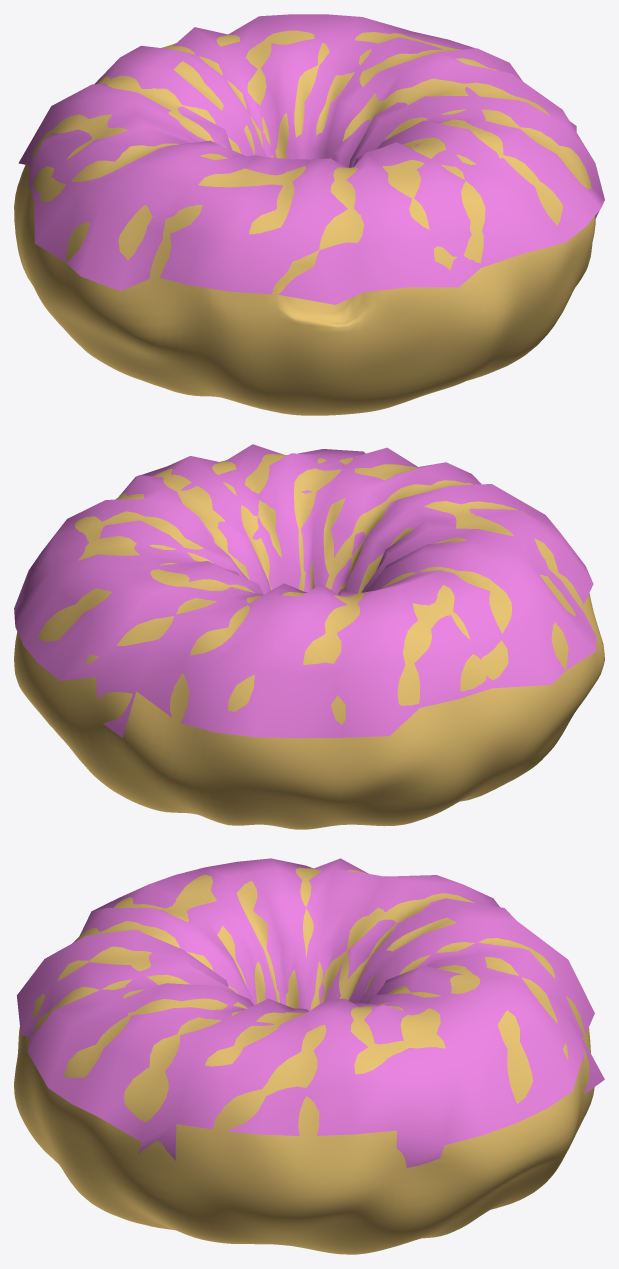
File: donut.glb
The picture shows the model from 3 angles, top to bottom: view 1: azimuth 30°, elevation 25°; view 2: azimuth 150°, elevation 25°; view 3: azimuth 270°, elevation 25°; orthographic projection. The views are drawn at different scales.
Visible parts, largest first — view 1: Icing, Donut; view 2: Icing, Donut; view 3: Icing, Donut.
Part boxes in pixels (x1,y1,x2,y2): Icing: [18, 14, 604, 304]; Donut: [14, 30, 595, 415]; Icing: [14, 444, 596, 738]; Donut: [14, 454, 604, 829]; Icing: [17, 858, 604, 1167]; Donut: [14, 867, 594, 1254].
Size of what is drawn, in the model's own units: 0.1046 by 0.0448 by 0.1024.
